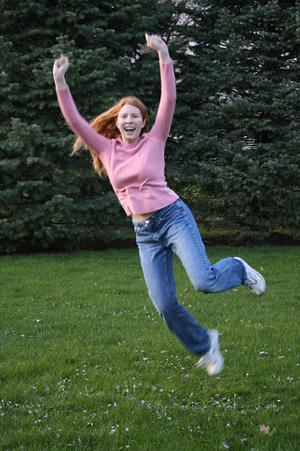person: (54, 32, 265, 380)
